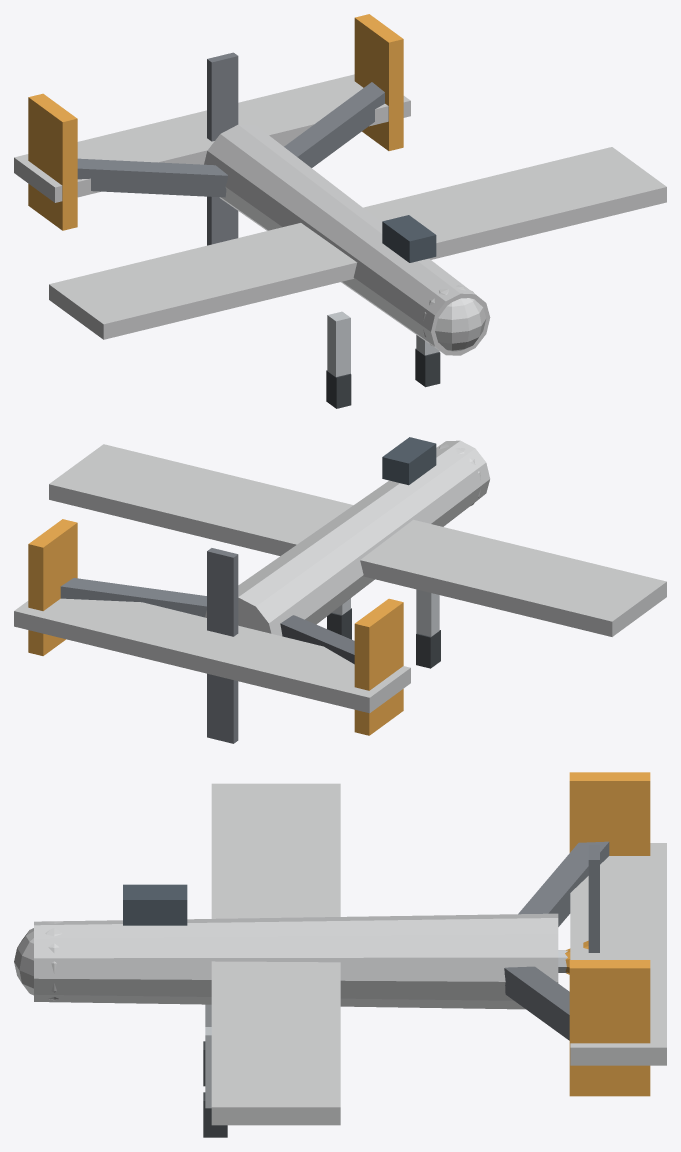
The model's file is twin-boom-uav.glb.
3 views of the same model, one above another, from view 1: azimuth 30°, elevation 25°; view 2: azimuth 150°, elevation 25°; view 3: azimuth 270°, elevation 25° (orthographic). The views are drawn at different scales.
Visible parts, largest first — view 1: twin-boom-uav, prop-1/graphite; view 2: twin-boom-uav, prop-1/graphite; view 3: twin-boom-uav, prop-1/graphite.
Boxes of the visible parts, x1,y1,x2,y2 form: twin-boom-uav: (14,14,666,408); prop-1/graphite: (207,52,238,245); twin-boom-uav: (14,437,666,735); prop-1/graphite: (207,548,238,743); twin-boom-uav: (14,772,666,1137); prop-1/graphite: (588,844,599,952).
Bounding box in the file's own units: 1.9 × 0.7 × 1.62.
